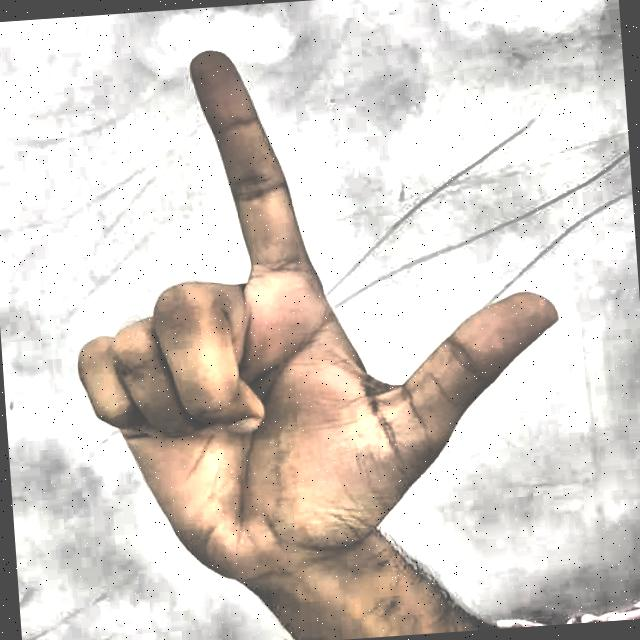La: (15, 4, 592, 640)
